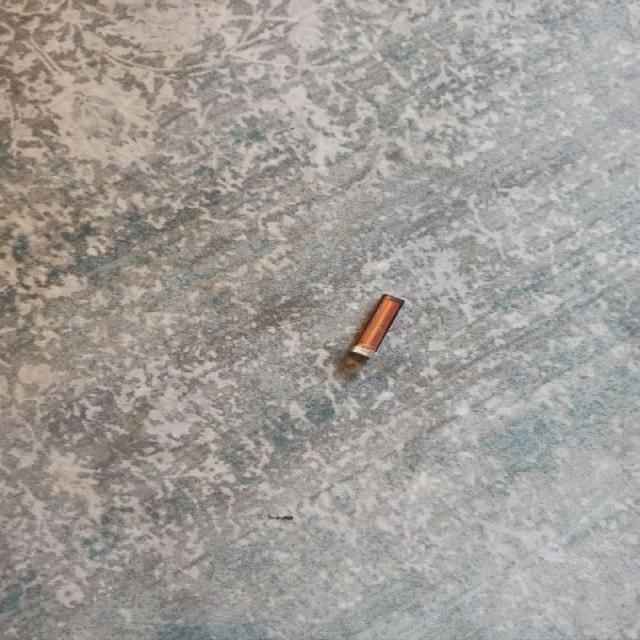lipstick: (349, 293, 405, 358)
